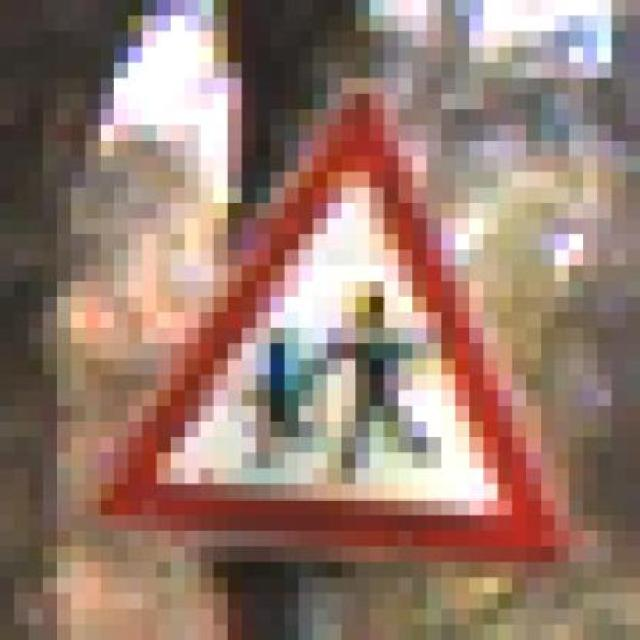Beware of children: (114, 62, 583, 578)
